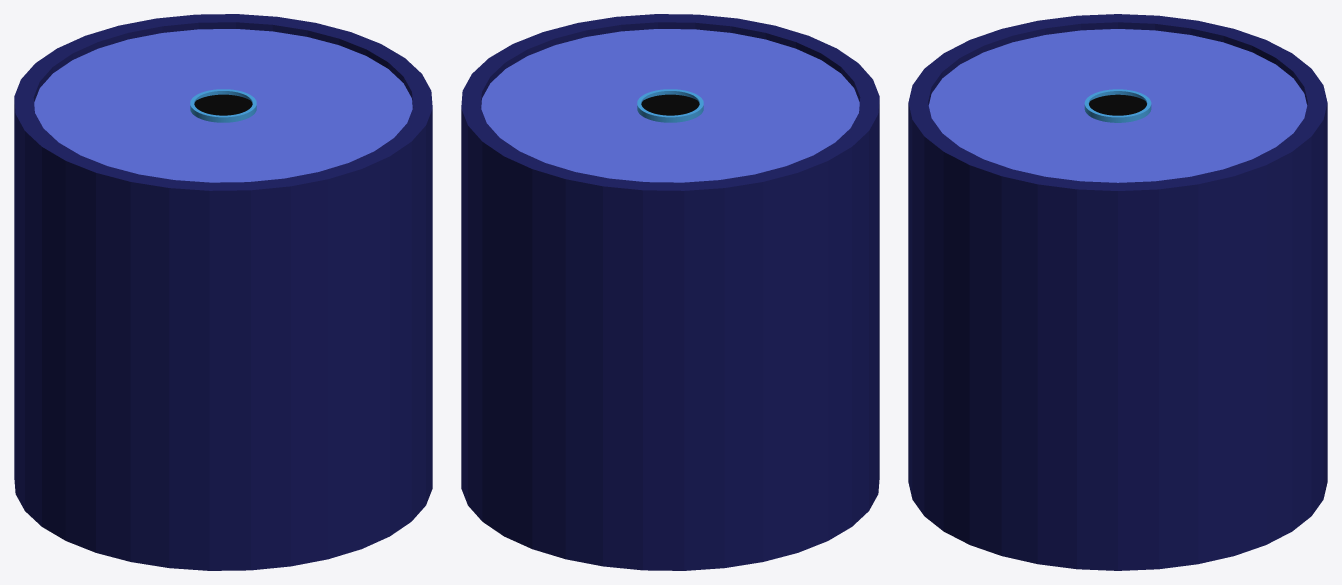
File: Platform.fbx
The picture shows the model from 3 angles, left to right: view 1: azimuth 30°, elevation 25°; view 2: azimuth 150°, elevation 25°; view 3: azimuth 270°, elevation 25°; orthographic projection.
Visible parts, largest first — view 1: Platform; view 2: Platform; view 3: Platform.
Part boxes in pixels (x1,y1,x2,y2): Platform: [14, 14, 432, 570]; Platform: [461, 14, 879, 570]; Platform: [908, 14, 1327, 570].
Size of the model in its own units: 307 by 307 by 307.
